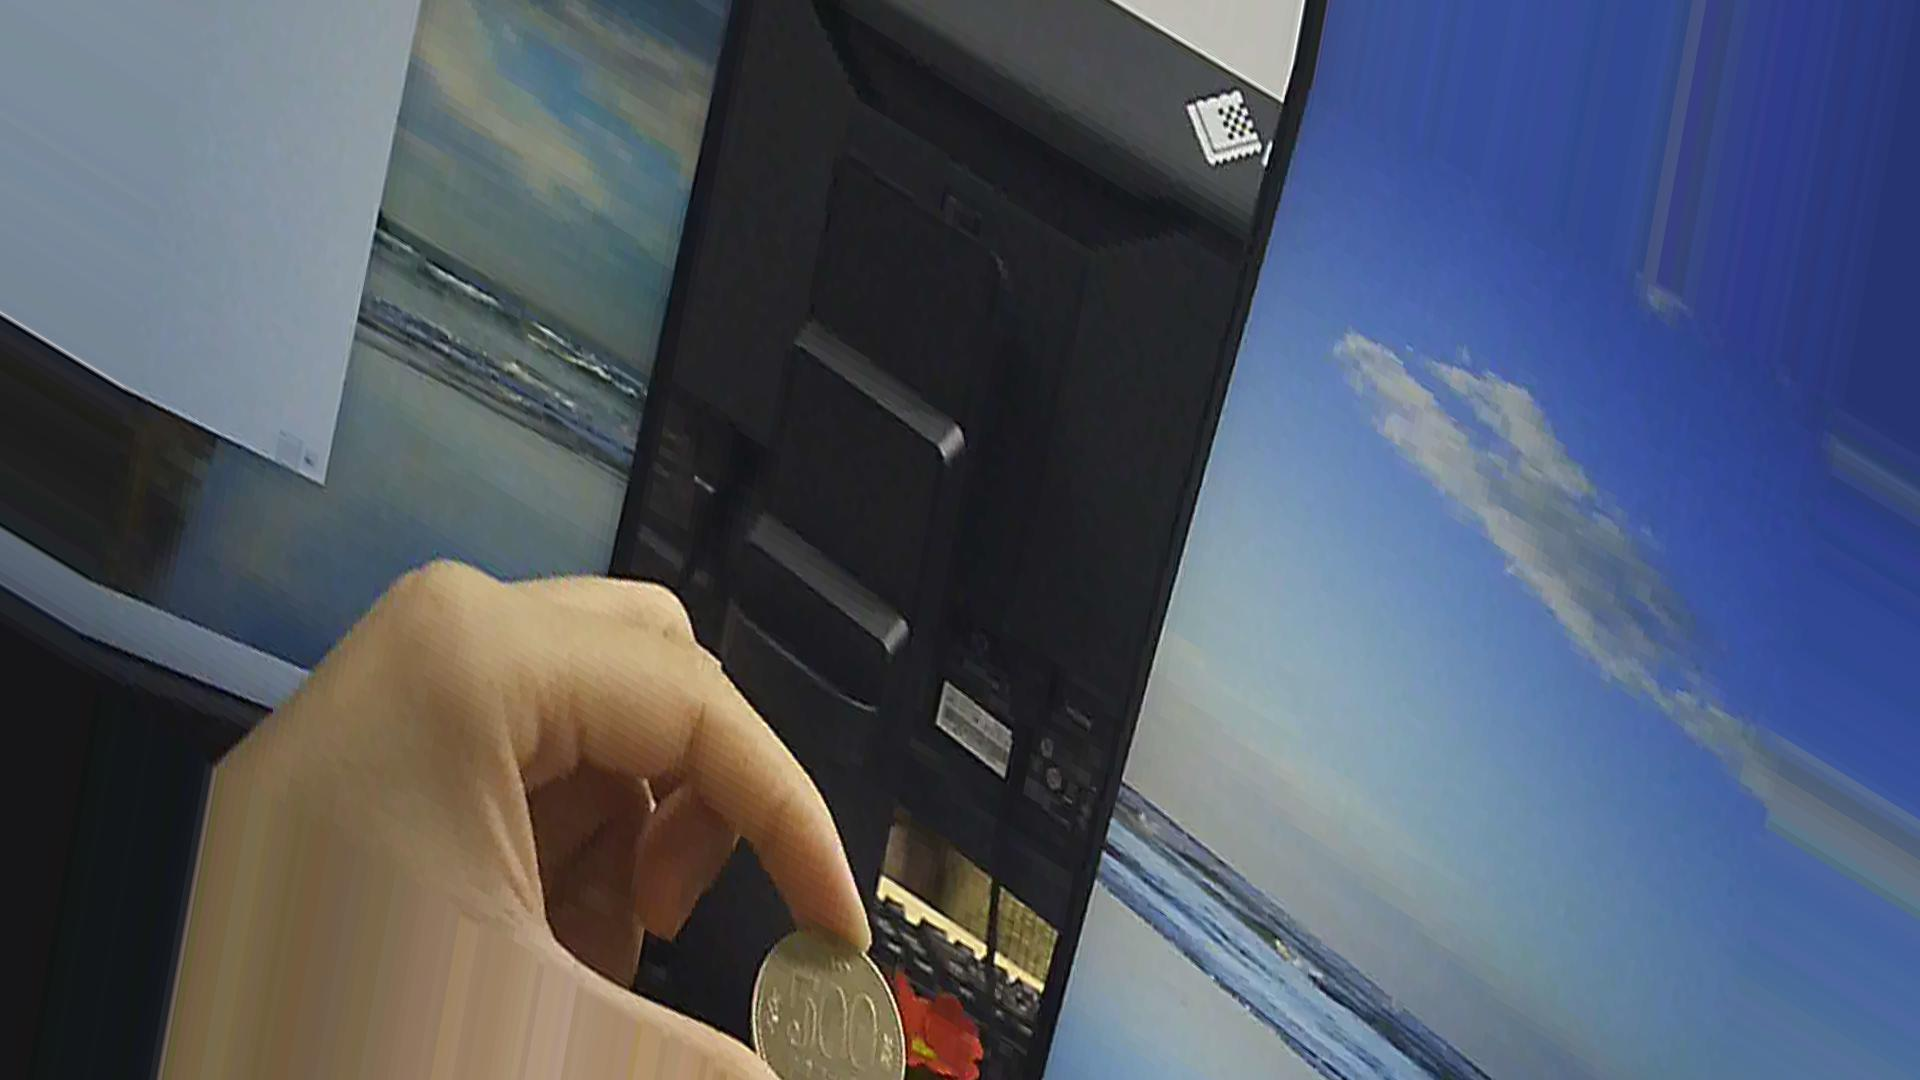500 Yen: (735, 915, 916, 1079)
